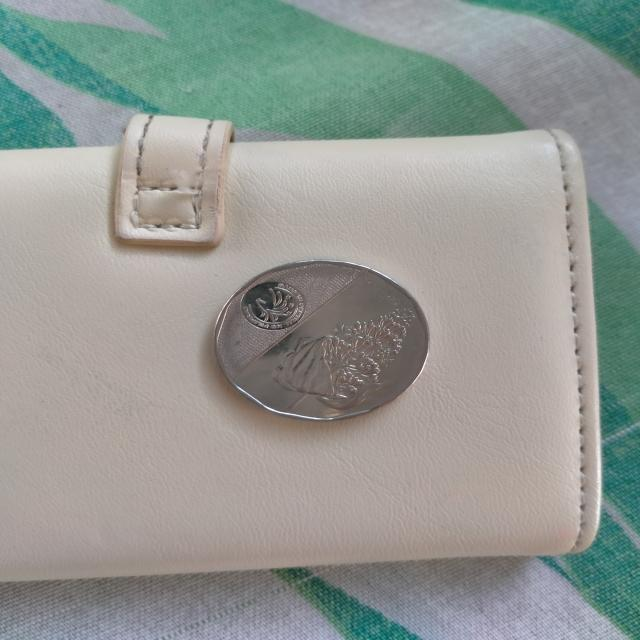10_New_Back: (278, 295, 436, 431)
